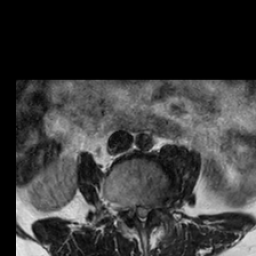CCS_normal: (138, 198, 146, 232)
LFS_severe_stenosis: (153, 195, 161, 216)
LLS_severe_stenosis: (146, 198, 153, 223)
RFS_severe_stenosis: (123, 197, 131, 220)
RLS_severe_stenosis: (131, 197, 138, 222)
